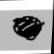correct: (9, 12, 45, 42)
